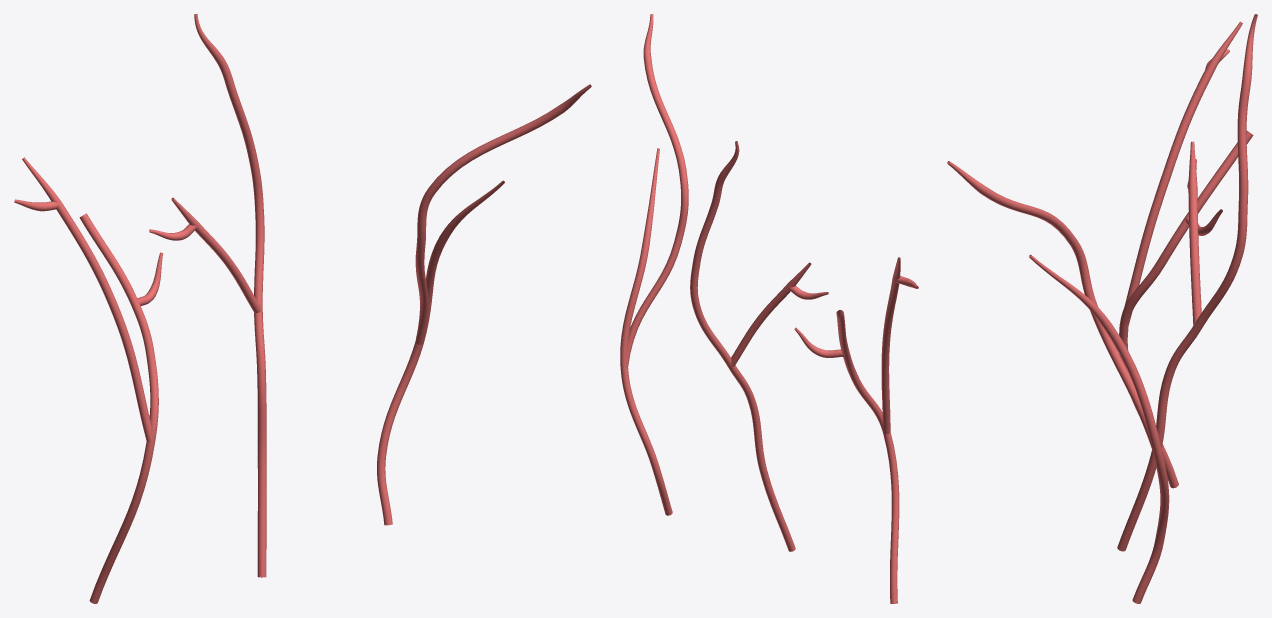
Rendered from Distal_lateral_striate_branches.l_BezierCurve.070.glb.
The picture shows the model from 3 angles, left to right: view 1: azimuth 30°, elevation 25°; view 2: azimuth 150°, elevation 25°; view 3: azimuth 270°, elevation 25°; orthographic projection. The views are drawn at different scales.
Parts seen in each view (by area): view 1: Distal_lateral_striate_branches.l_BezierCurve.070; view 2: Distal_lateral_striate_branches.l_BezierCurve.070; view 3: Distal_lateral_striate_branches.l_BezierCurve.070.
Part boxes in pixels (x1=…): Distal_lateral_striate_branches.l_BezierCurve.070: x1=14, y1=14, x2=591, y2=603; Distal_lateral_striate_branches.l_BezierCurve.070: x1=620, y1=14, x2=918, y2=603; Distal_lateral_striate_branches.l_BezierCurve.070: x1=947, y1=14, x2=1257, y2=603.
Size of the model in its own units: 0.0116 by 0.0132 by 0.00683.
